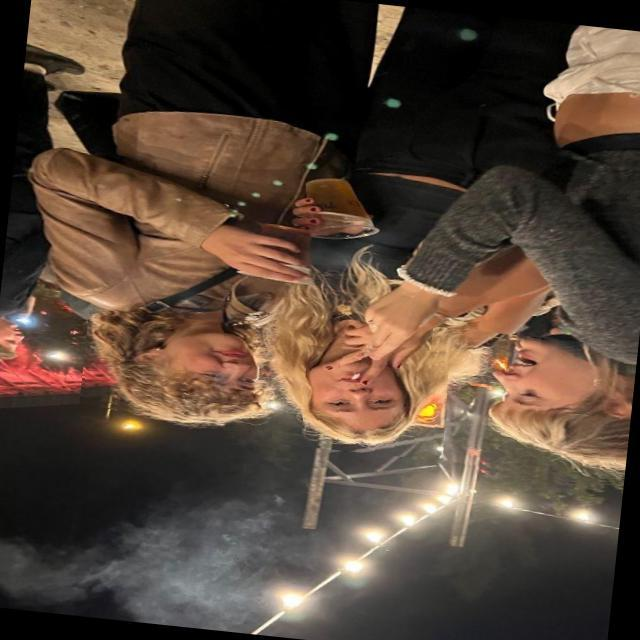cigarette: (340, 362, 384, 382)
